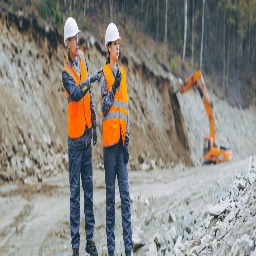helmet: (102, 23, 123, 51), (63, 17, 82, 44)
person: (62, 14, 99, 256), (99, 18, 135, 256)
vest: (63, 54, 94, 141), (102, 60, 131, 153)
